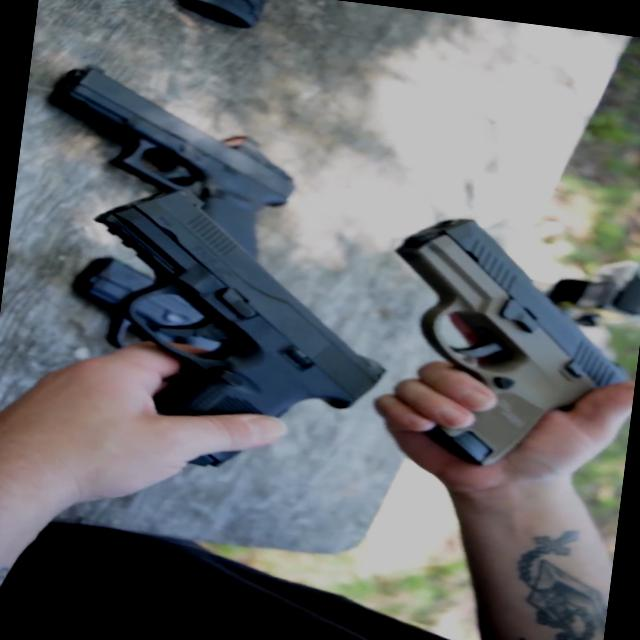handgun: (68, 176, 395, 512), (346, 210, 638, 491), (31, 46, 325, 292), (54, 244, 269, 443)
